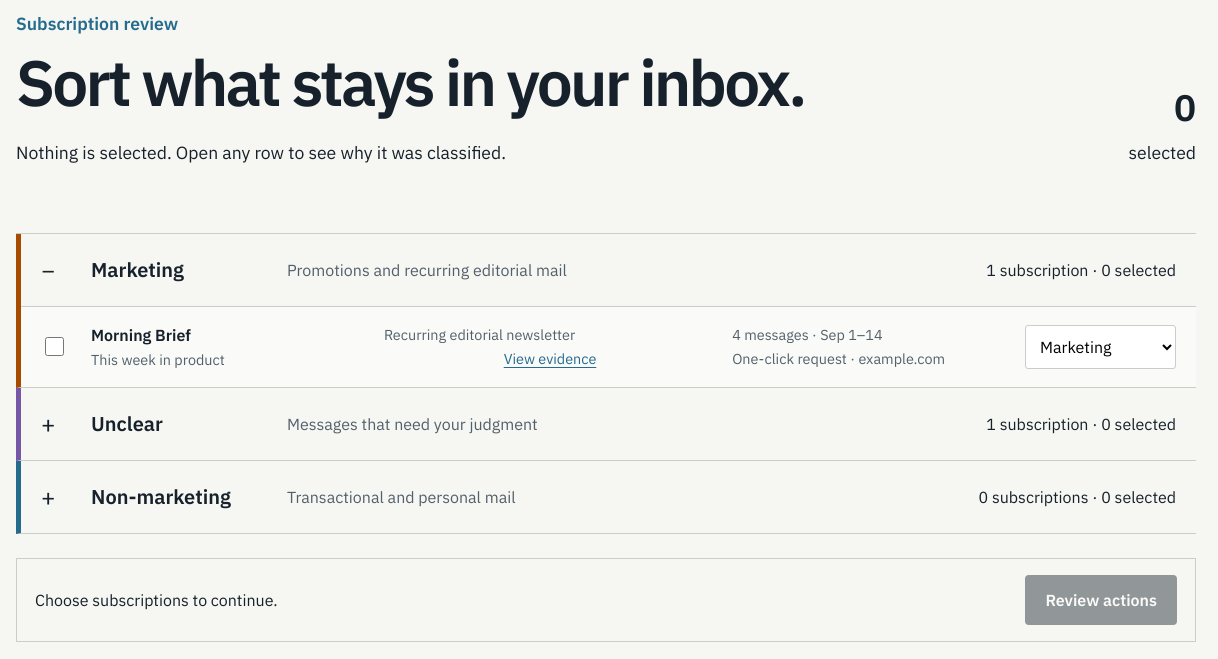
Scenario: starts unselected and keeps the selected count visible when collapsed
Click the checkbox named "morning brief": (54, 346) [45,337,64,356]
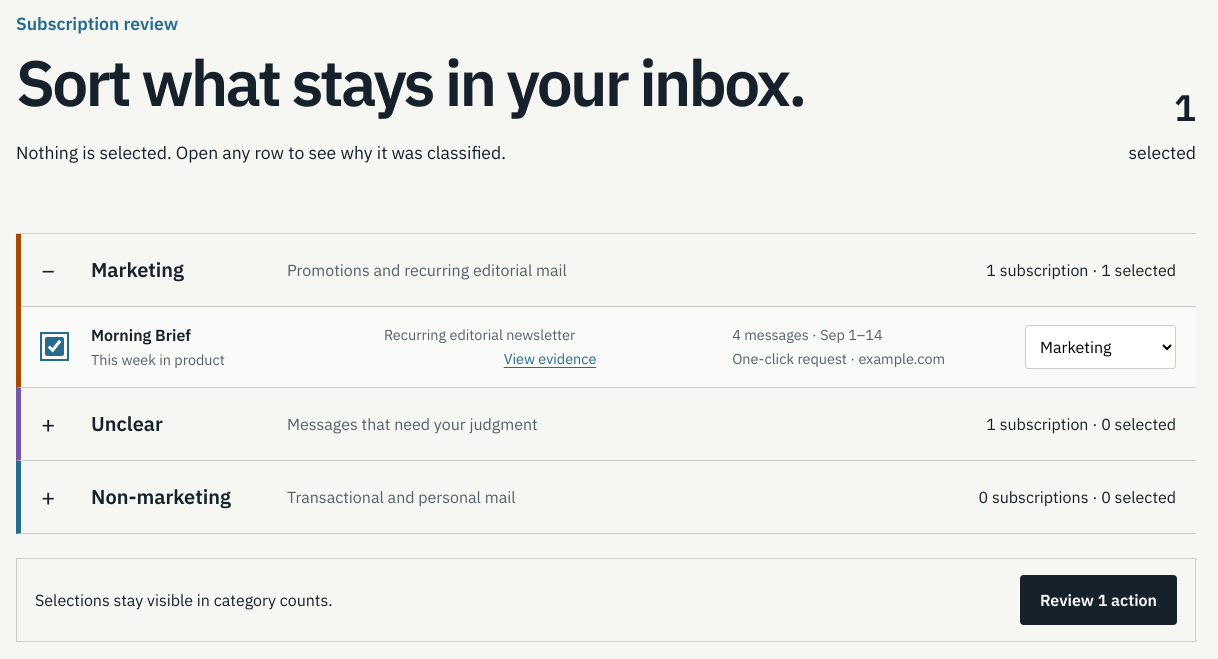
Click the button that starts with "Marketing": (137, 270) [21,234,1196,306]
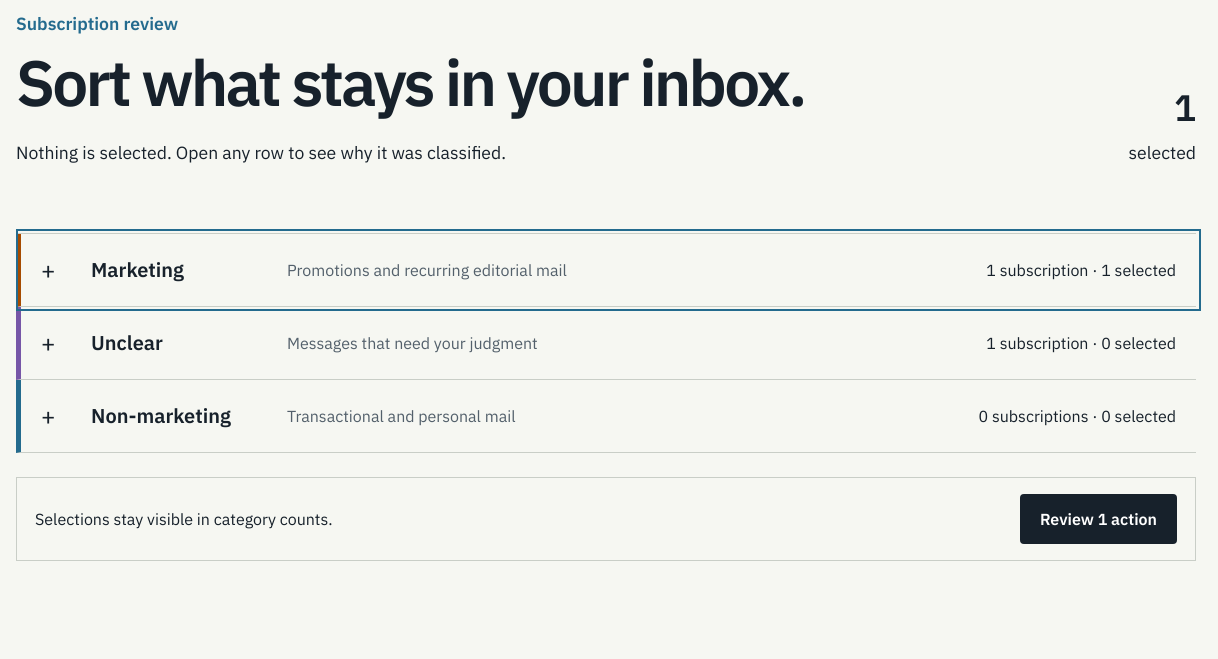
Result: the button "Review 1 action" is enabled at [1020,494,1177,544]
Result: the button that starts with "Marketing" is collapsed at [21,234,1196,306]
